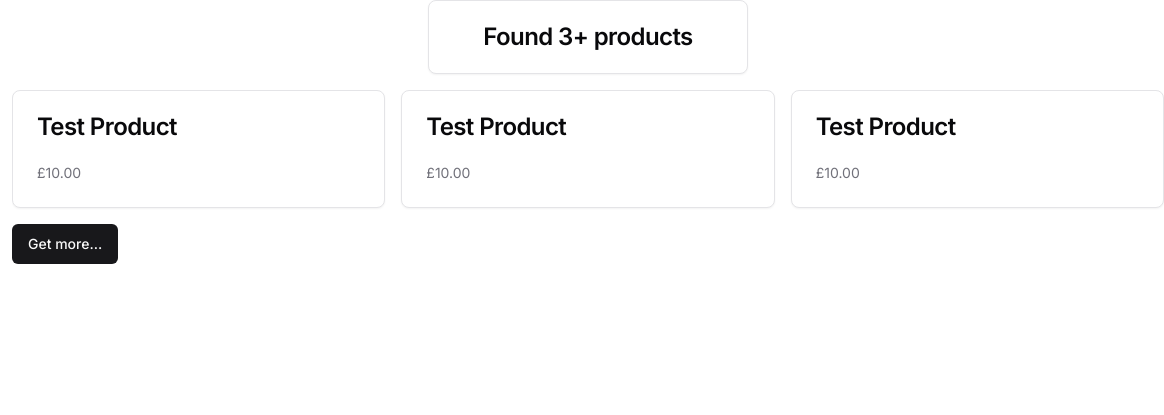
Test: Clicking `Get more...` button should fetch and display more products
The width and height of the screenshot is (1164, 415).
Click the button "Get more...". click: point(65, 244)
box: [12,224,118,264]
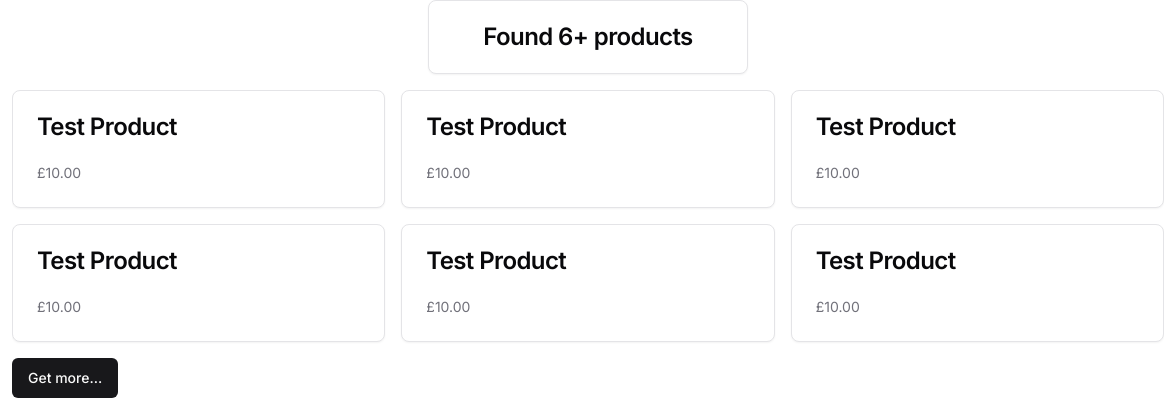
expect the number of links is 6: met, box [12,90,385,208]; [401,90,775,208]; [791,90,1163,208]; [12,224,385,342]; [401,224,775,342]; [791,224,1163,342]
